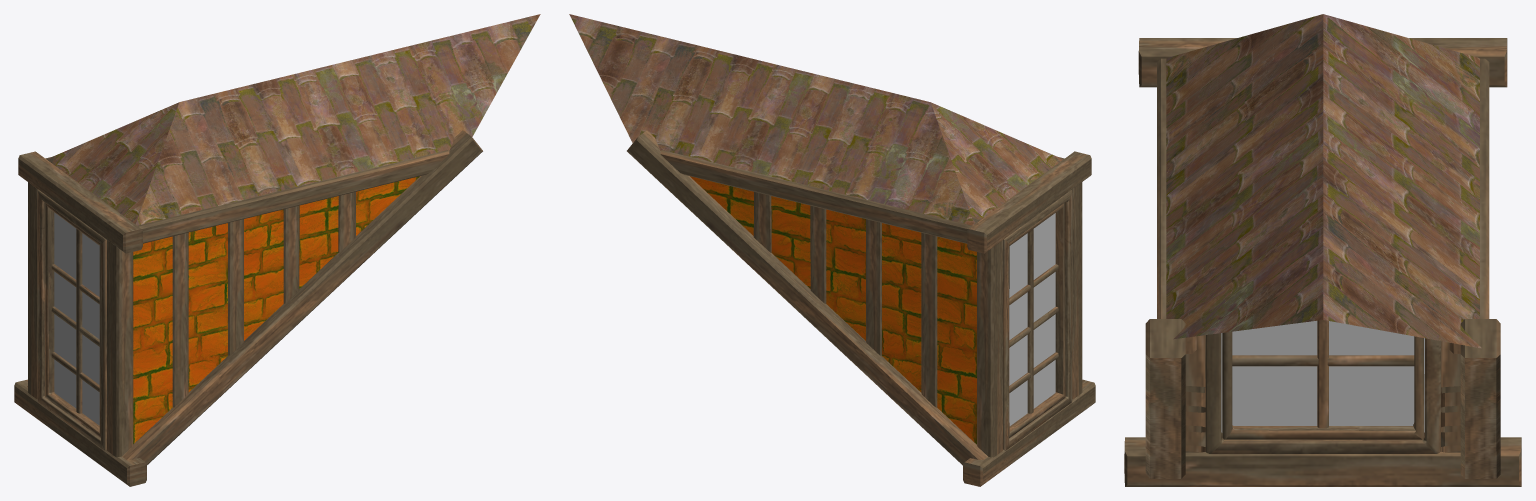
File: SM_roof_window_01.fbx
3 renders of one model, left to right at view 1: azimuth 30°, elevation 25°; view 2: azimuth 150°, elevation 25°; view 3: azimuth 270°, elevation 25°, orthographic. The views are drawn at different scales.
Visible parts, largest first — view 1: SM_roof_window_01_LOD0; view 2: SM_roof_window_01_LOD0; view 3: SM_roof_window_01_LOD0.
Part boxes in pixels (x1=…): SM_roof_window_01_LOD0: x1=14, y1=14, x2=540, y2=486; SM_roof_window_01_LOD0: x1=569, y1=14, x2=1095, y2=486; SM_roof_window_01_LOD0: x1=1124, y1=14, x2=1521, y2=486.
Size of the model in its own units: 474 by 200 by 305.
